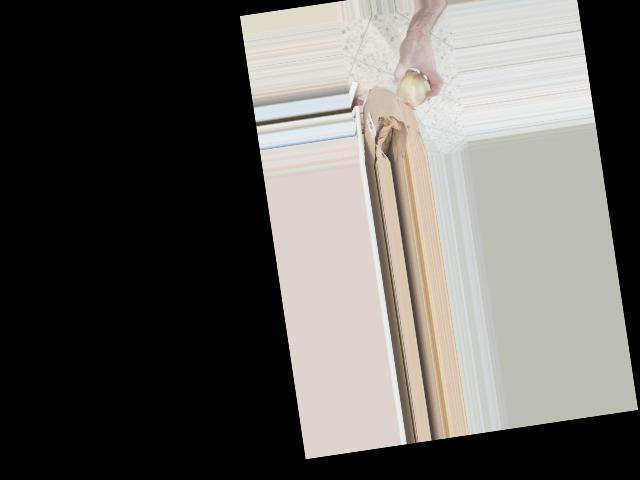onion: (392, 64, 433, 111)
